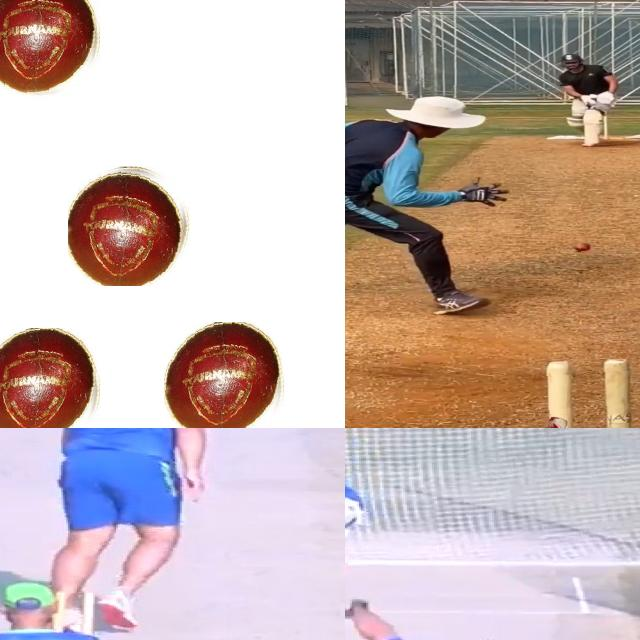Cricket ball: (68, 162, 191, 286), (163, 321, 286, 428), (0, 0, 102, 101), (0, 328, 103, 428), (574, 243, 592, 253)
Stumps: (540, 359, 640, 428)
